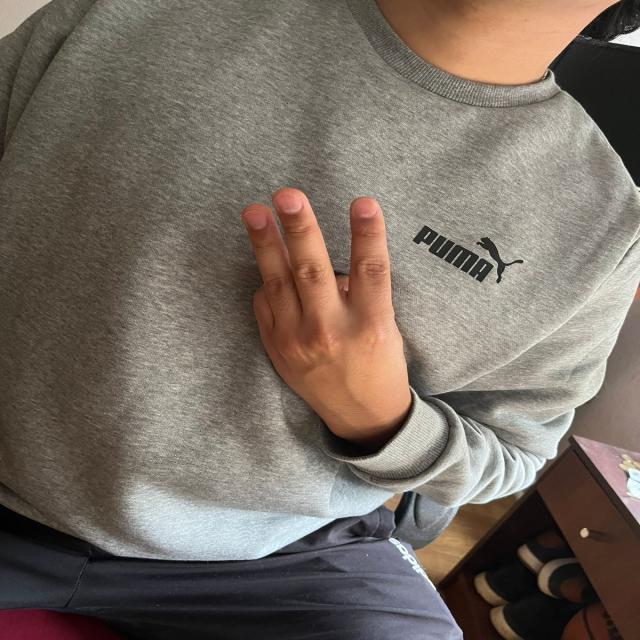W: (230, 177, 410, 426)
